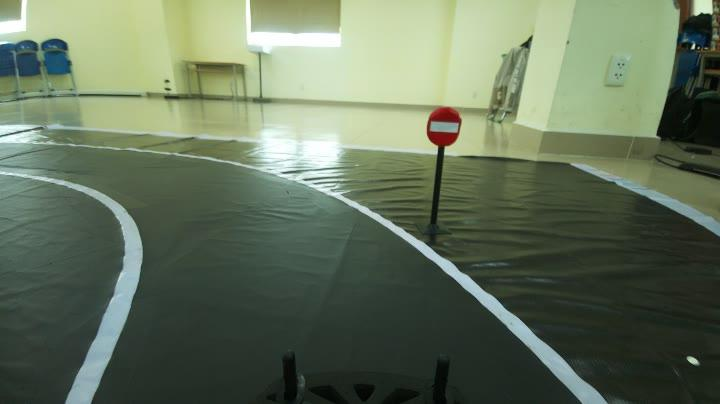no_entry: (421, 102, 466, 150)
